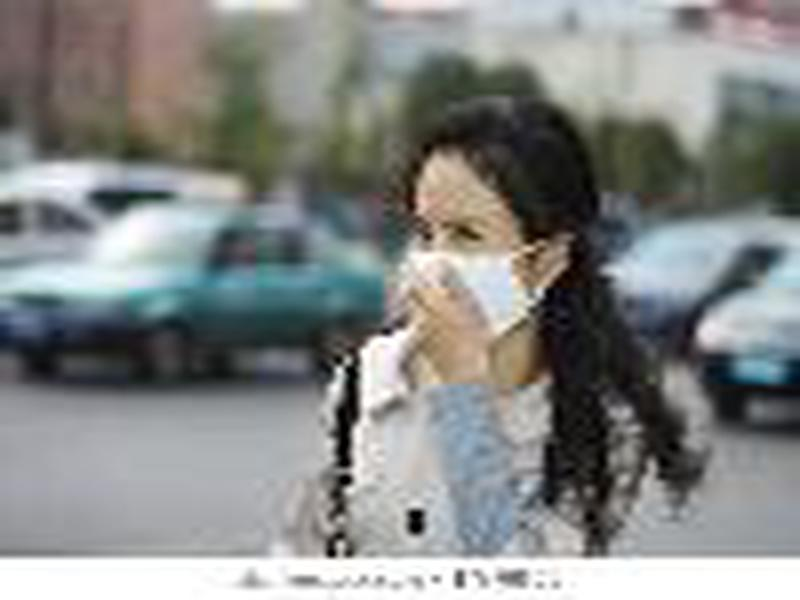with_mask: (403, 91, 597, 347)
